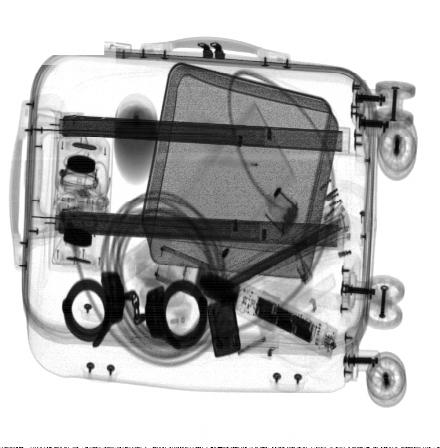Baton: (156, 246, 338, 360)
HandCuffs: (61, 272, 209, 350)
Lighter: (206, 295, 242, 357)
